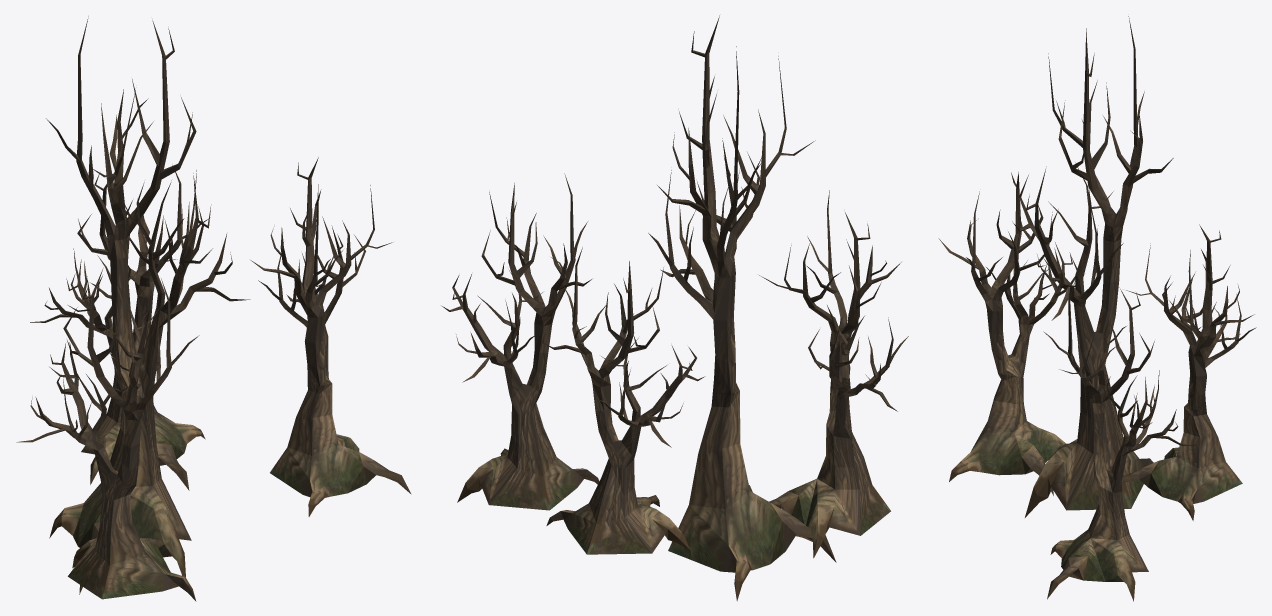
Rendered from plants_tall_tree_trunks210.fbx.
The picture shows the model from 3 angles, left to right: view 1: azimuth 30°, elevation 25°; view 2: azimuth 150°, elevation 25°; view 3: azimuth 270°, elevation 25°; orthographic projection. The views are drawn at different scales.
Visible parts, largest first — view 1: obj0.161; view 2: obj0.161; view 3: obj0.161.
Boxes of the visible parts, bbox=[...] form: obj0.161: bbox=[16, 16, 411, 601]; obj0.161: bbox=[442, 15, 908, 601]; obj0.161: bbox=[938, 16, 1256, 601].
Bounding box in the file's own units: 11.41 × 14.94 × 8.81.
